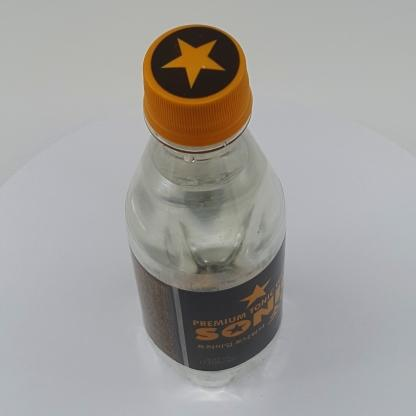----------------300ML: (124, 24, 286, 389)
